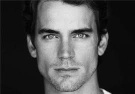male: (26, 3, 110, 89)
